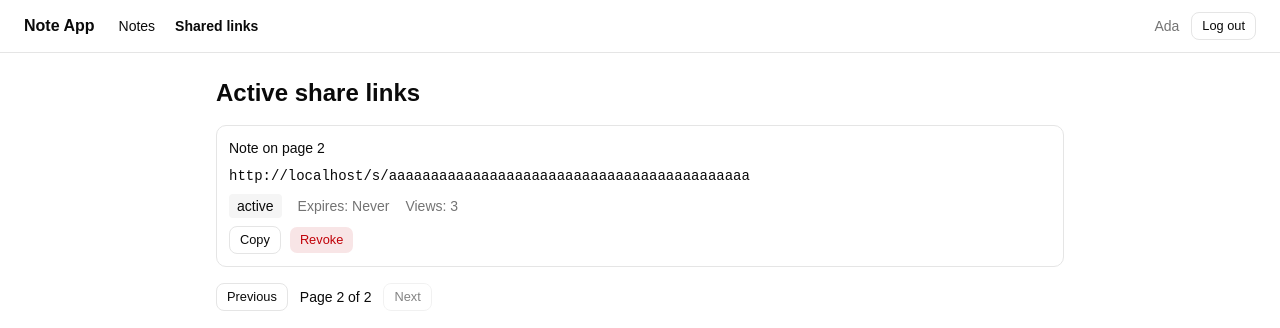
active share links page › keeps the page in the URL and pages through the links
The image size is (1280, 328).
Expected: the text "Note on page 2" is shown, [229,140,325,156]
Expected: the button "Next" is disabled, [384,283,432,311]
Click the button "Previous". click: click(252, 297)
box: [216,283,288,311]
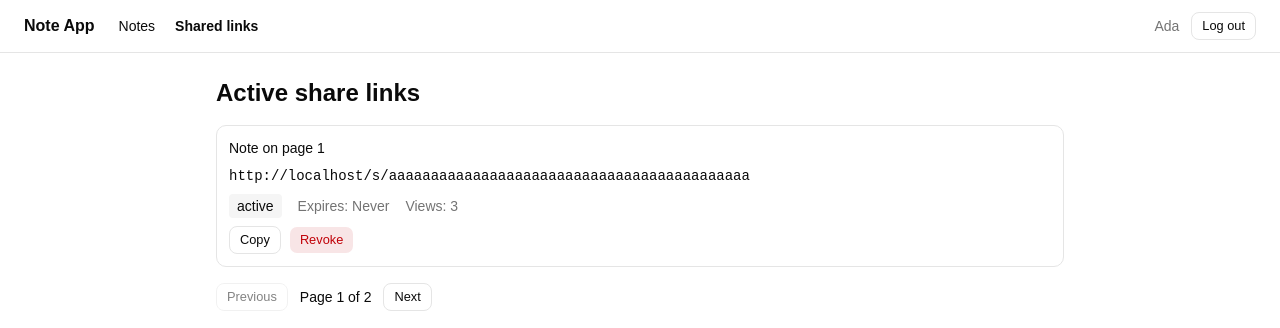
Now the text "Note on page 1" is shown, box [229,140,325,156]
Click the button "Next". click: click(408, 297)
box: [384,283,432,311]
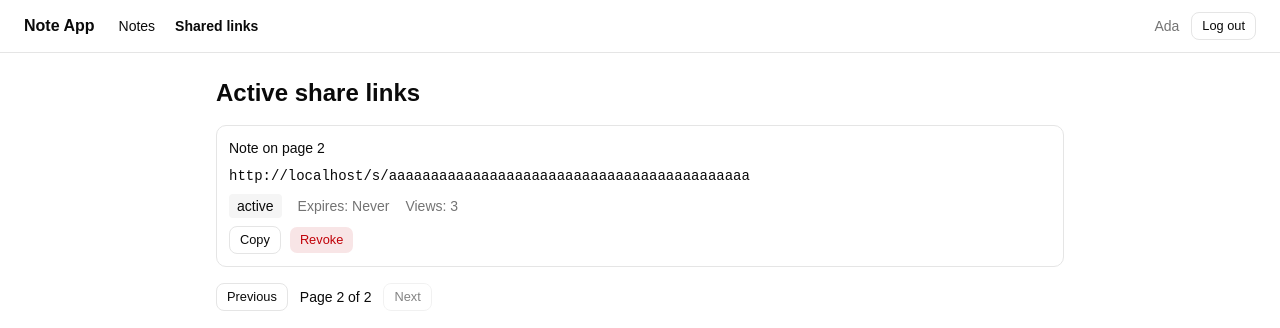
Now the text "Note on page 2" is shown, box [229,140,325,156]
